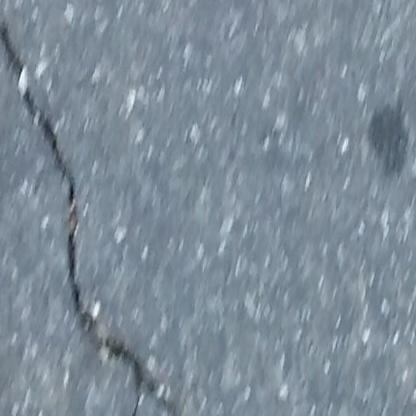Cracks: (0, 0, 191, 416)
